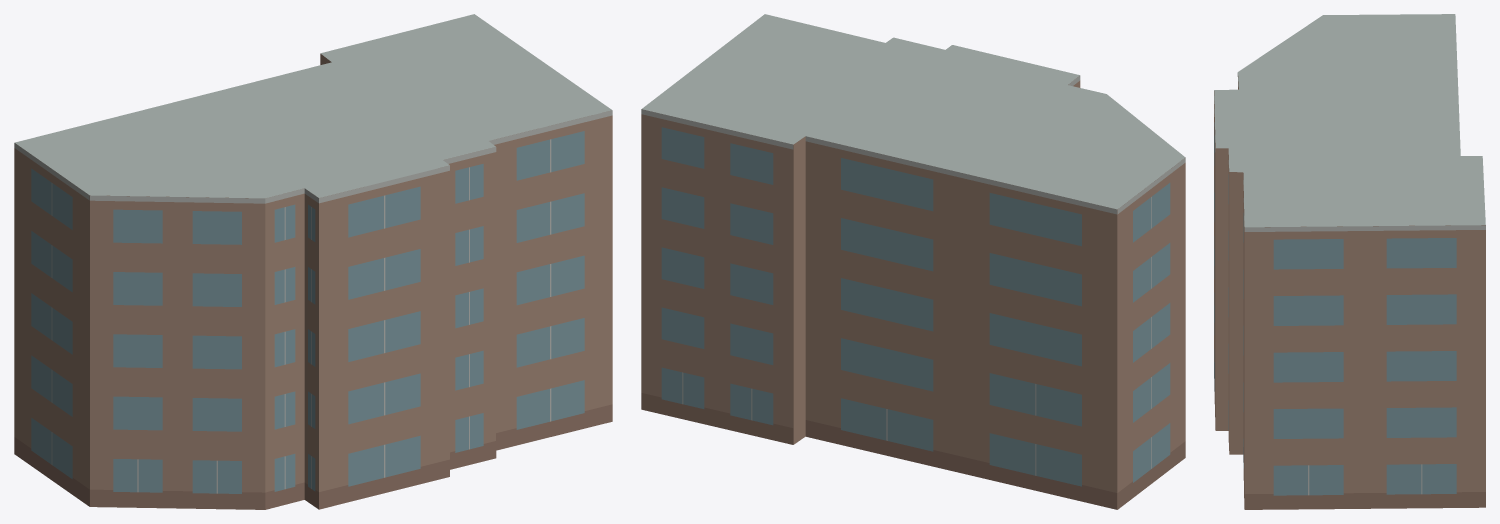
Rendered from survey-upis-32926293.glb.
The picture shows the model from 3 angles, left to right: view 1: azimuth 30°, elevation 25°; view 2: azimuth 150°, elevation 25°; view 3: azimuth 270°, elevation 25°; orthographic projection. The views are drawn at different scales.
Visible parts, largest first — view 1: survey-upis-32926293.tmp; view 2: survey-upis-32926293.tmp; view 3: survey-upis-32926293.tmp.
Boxes of the visible parts, x1,y1,x2,y2 form: survey-upis-32926293.tmp: (14, 14, 612, 509); survey-upis-32926293.tmp: (641, 14, 1185, 509); survey-upis-32926293.tmp: (1214, 14, 1485, 509).
Size of the model in its own units: 23.32 by 14.4 by 12.56.
